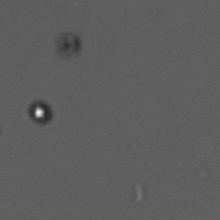Dead Cell: (54, 32, 84, 62)
Living Cell: (26, 101, 54, 126)
